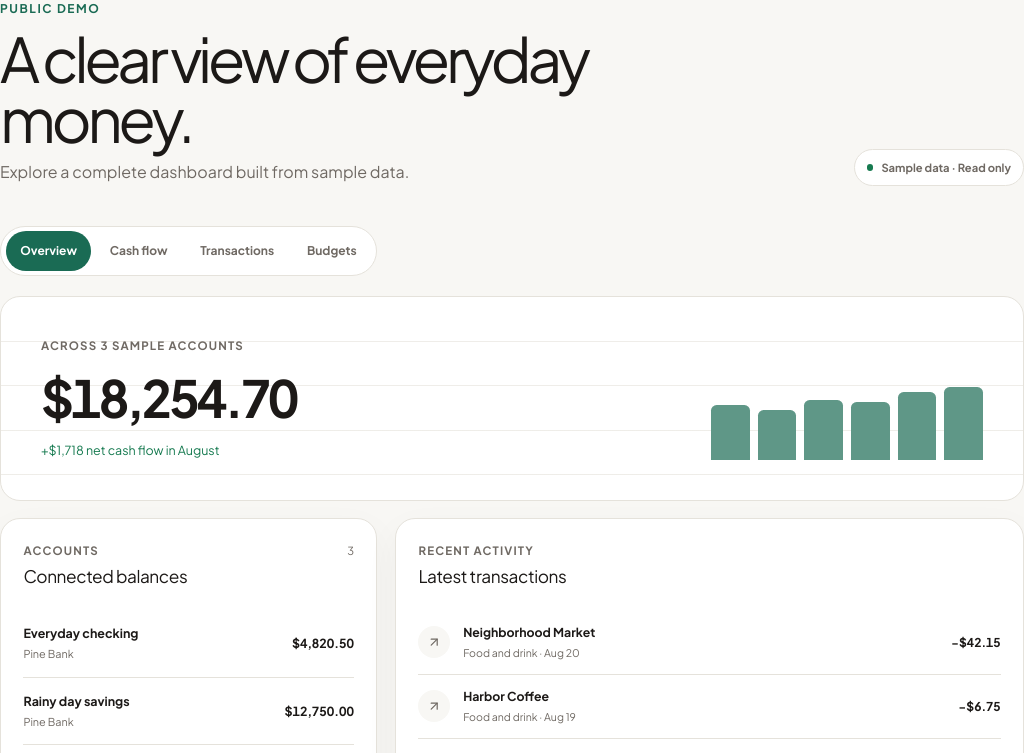
DemoDashboard › moves between accessible demo tabs
Press the mouse on the tab "Cash flow": (139, 251) [95, 231, 182, 271]
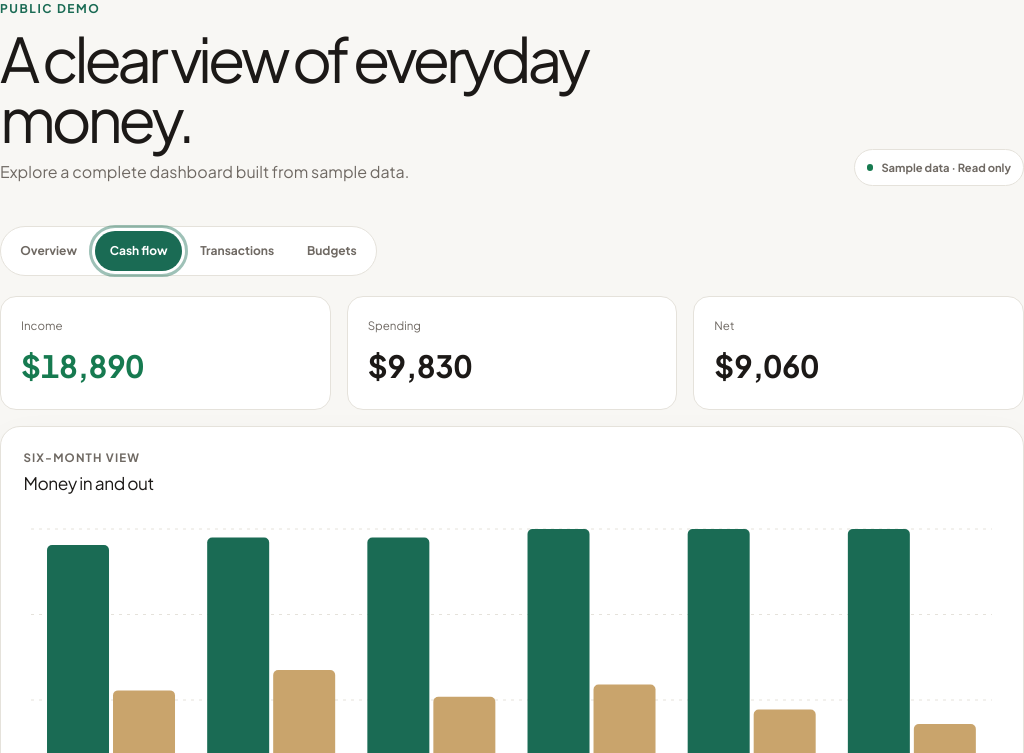
expect the heading "Money in and out" is shown: met, box [23, 471, 154, 497]
